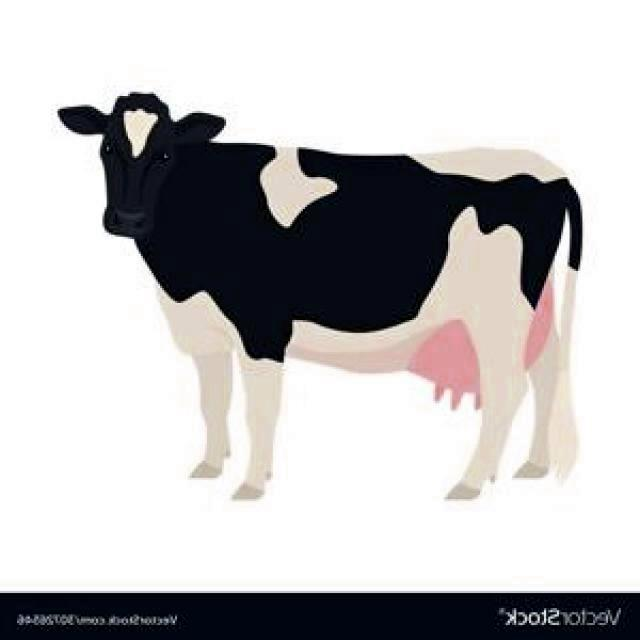COW: (59, 92, 582, 499)
